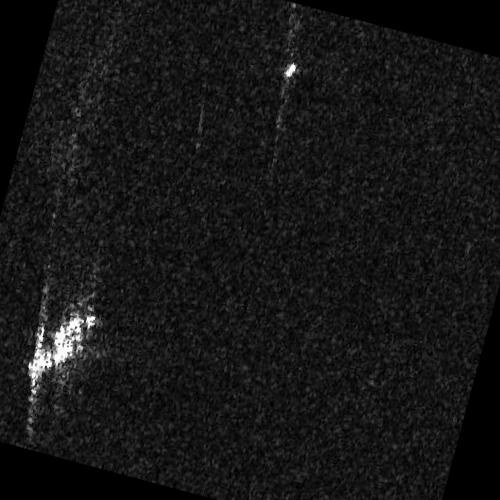ship: (25, 312, 98, 383), (285, 61, 298, 79)
